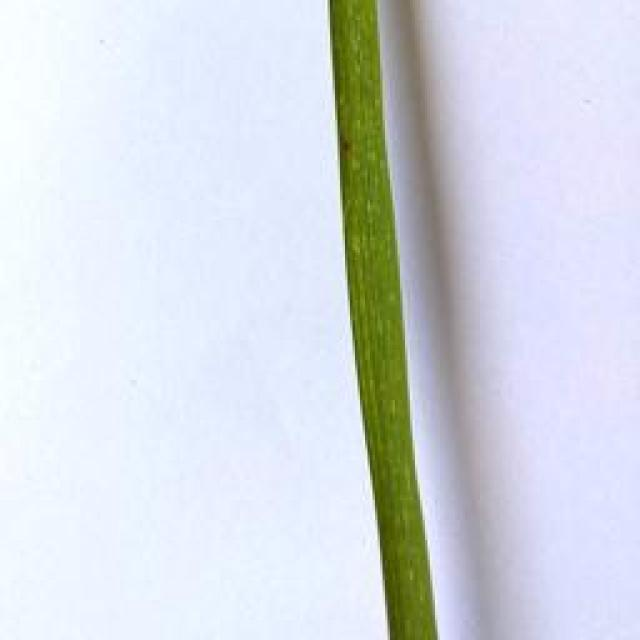Bacterial_Blight: (334, 8, 436, 614)
Brown_Spot: (329, 134, 368, 168)
